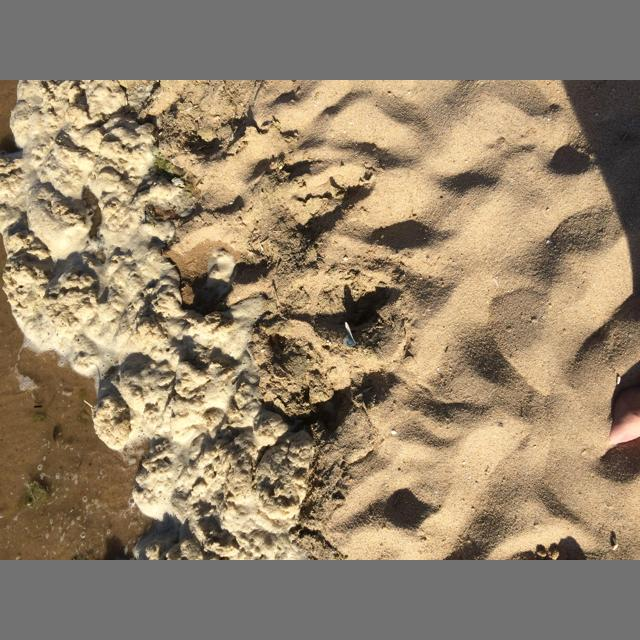litter: (343, 321, 356, 347), (612, 537, 618, 551)
